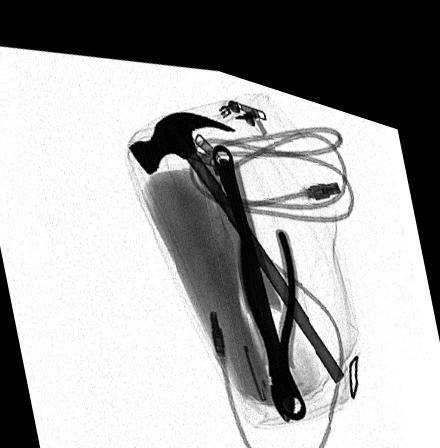Hammer: (127, 98, 343, 362)
Pliers: (235, 205, 299, 411)
Wrench: (212, 129, 305, 401)
